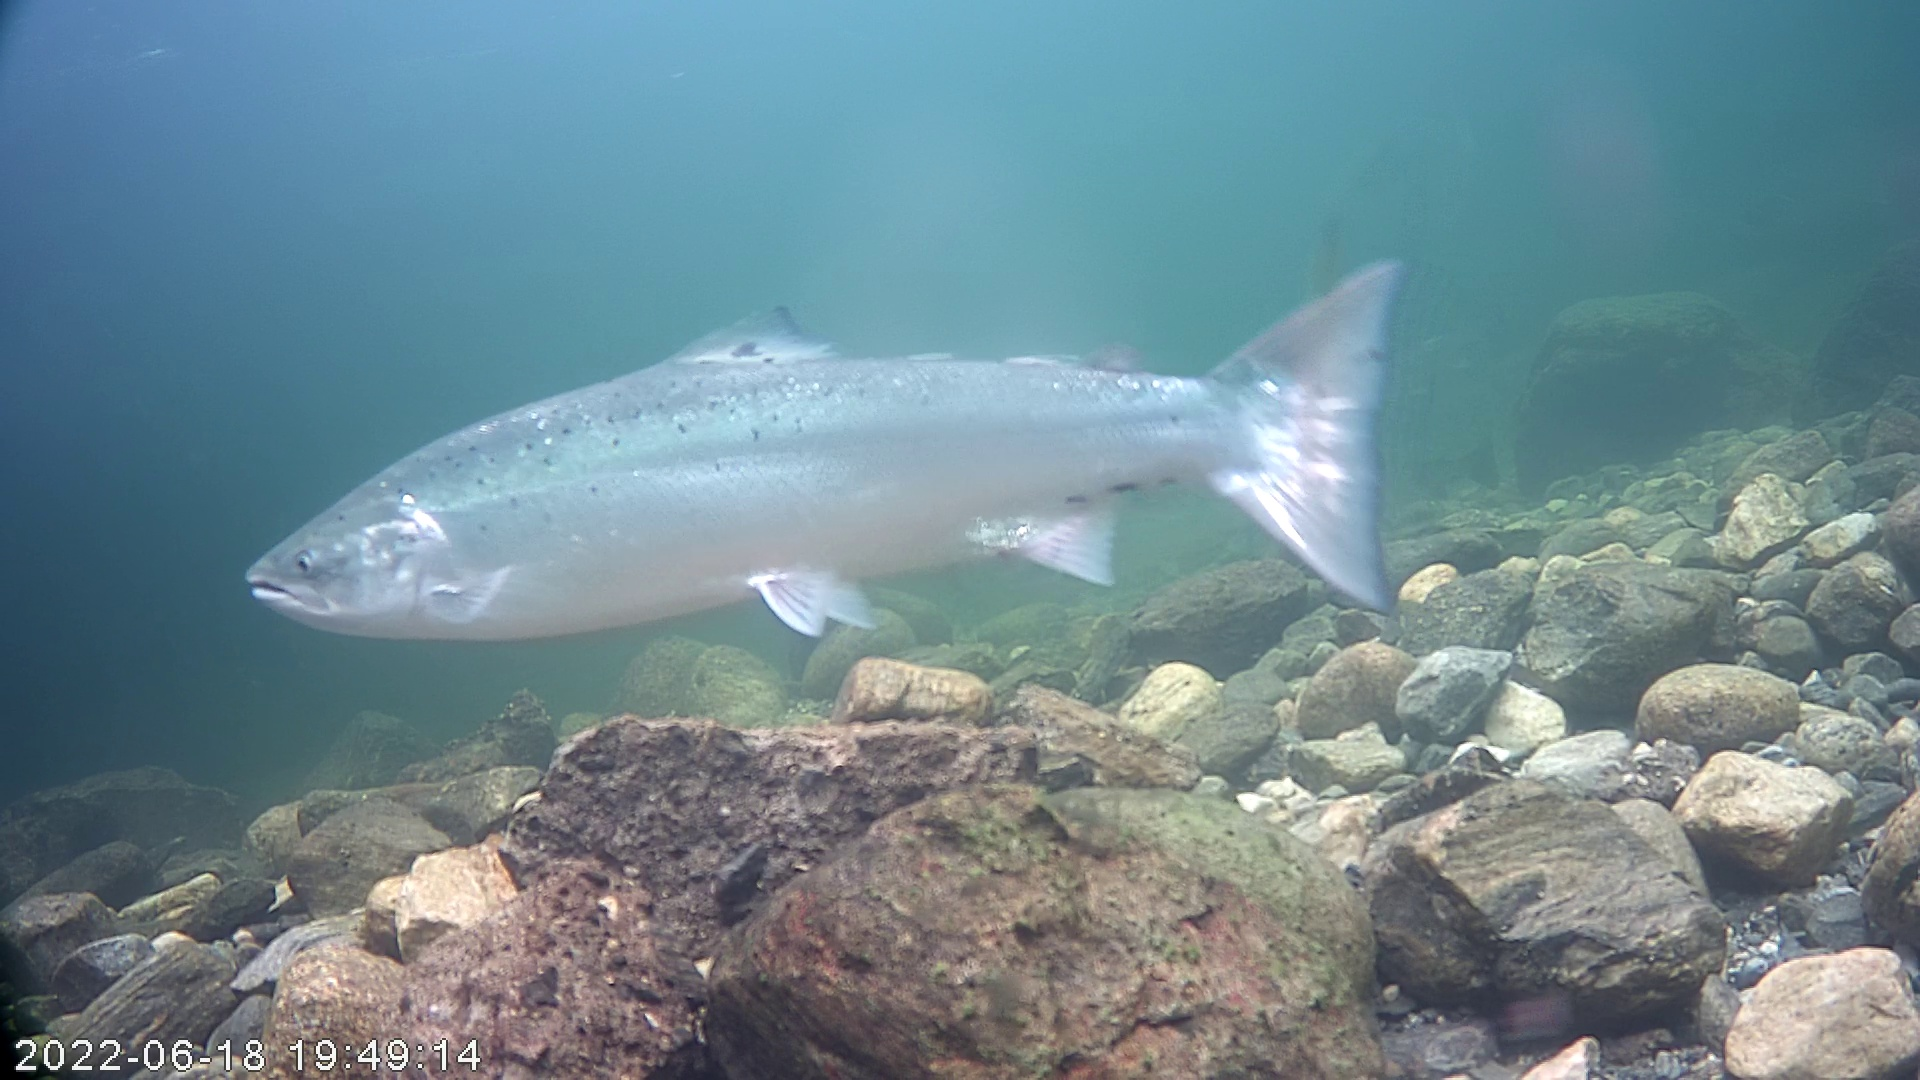salmon: (241, 257, 1402, 641)
